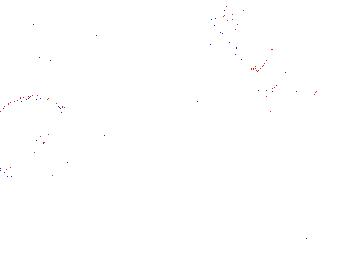moon jellyfish: (151, 117, 248, 225), (1, 95, 77, 181), (265, 29, 329, 107), (23, 10, 110, 65), (232, 1, 335, 45), (211, 11, 271, 73)
